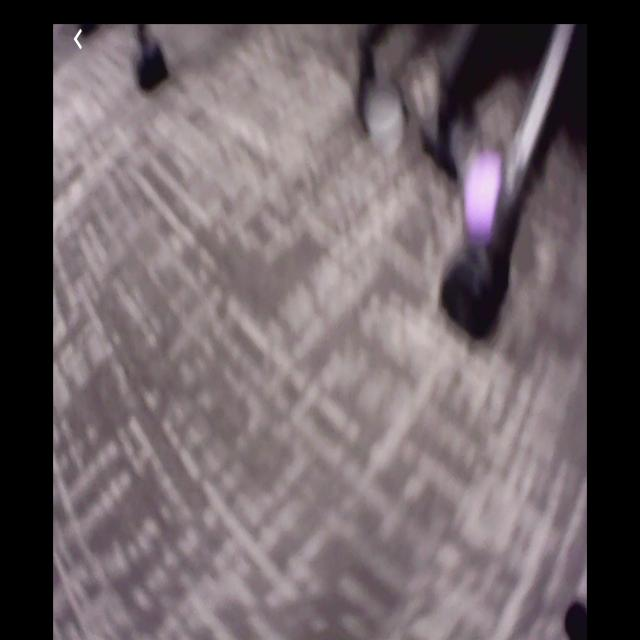ball: (465, 153, 509, 235)
